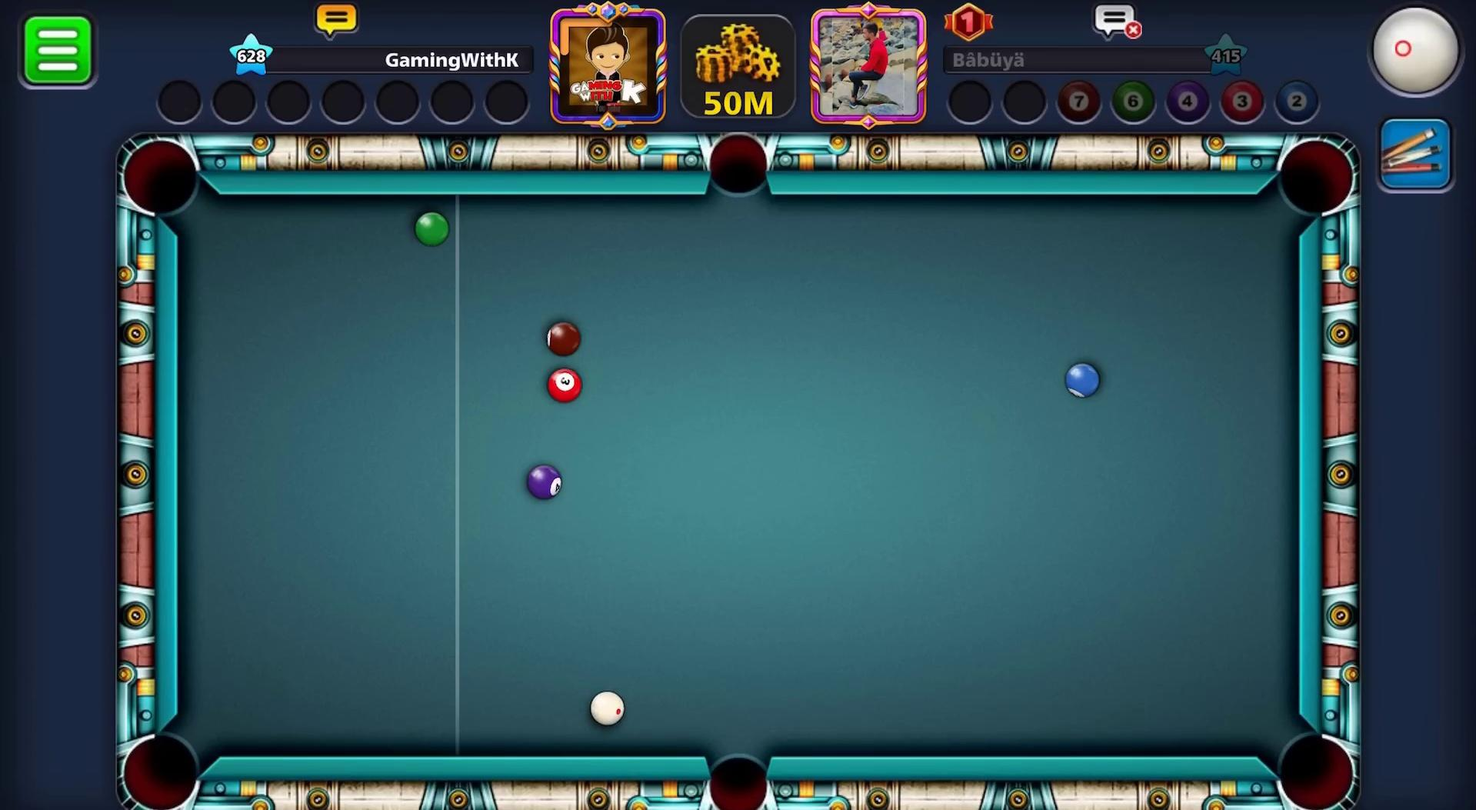Ball: (509, 453, 572, 507), (534, 356, 594, 410), (529, 315, 586, 364), (1061, 359, 1106, 406), (406, 210, 448, 249)
Hole: (1252, 705, 1371, 809), (102, 711, 222, 809), (105, 122, 212, 230), (1266, 126, 1364, 231), (685, 724, 786, 809), (699, 120, 788, 216)
Play_Area: (178, 195, 1299, 755)
Spin: (1362, 0, 1475, 111)
White: (577, 686, 634, 731)
